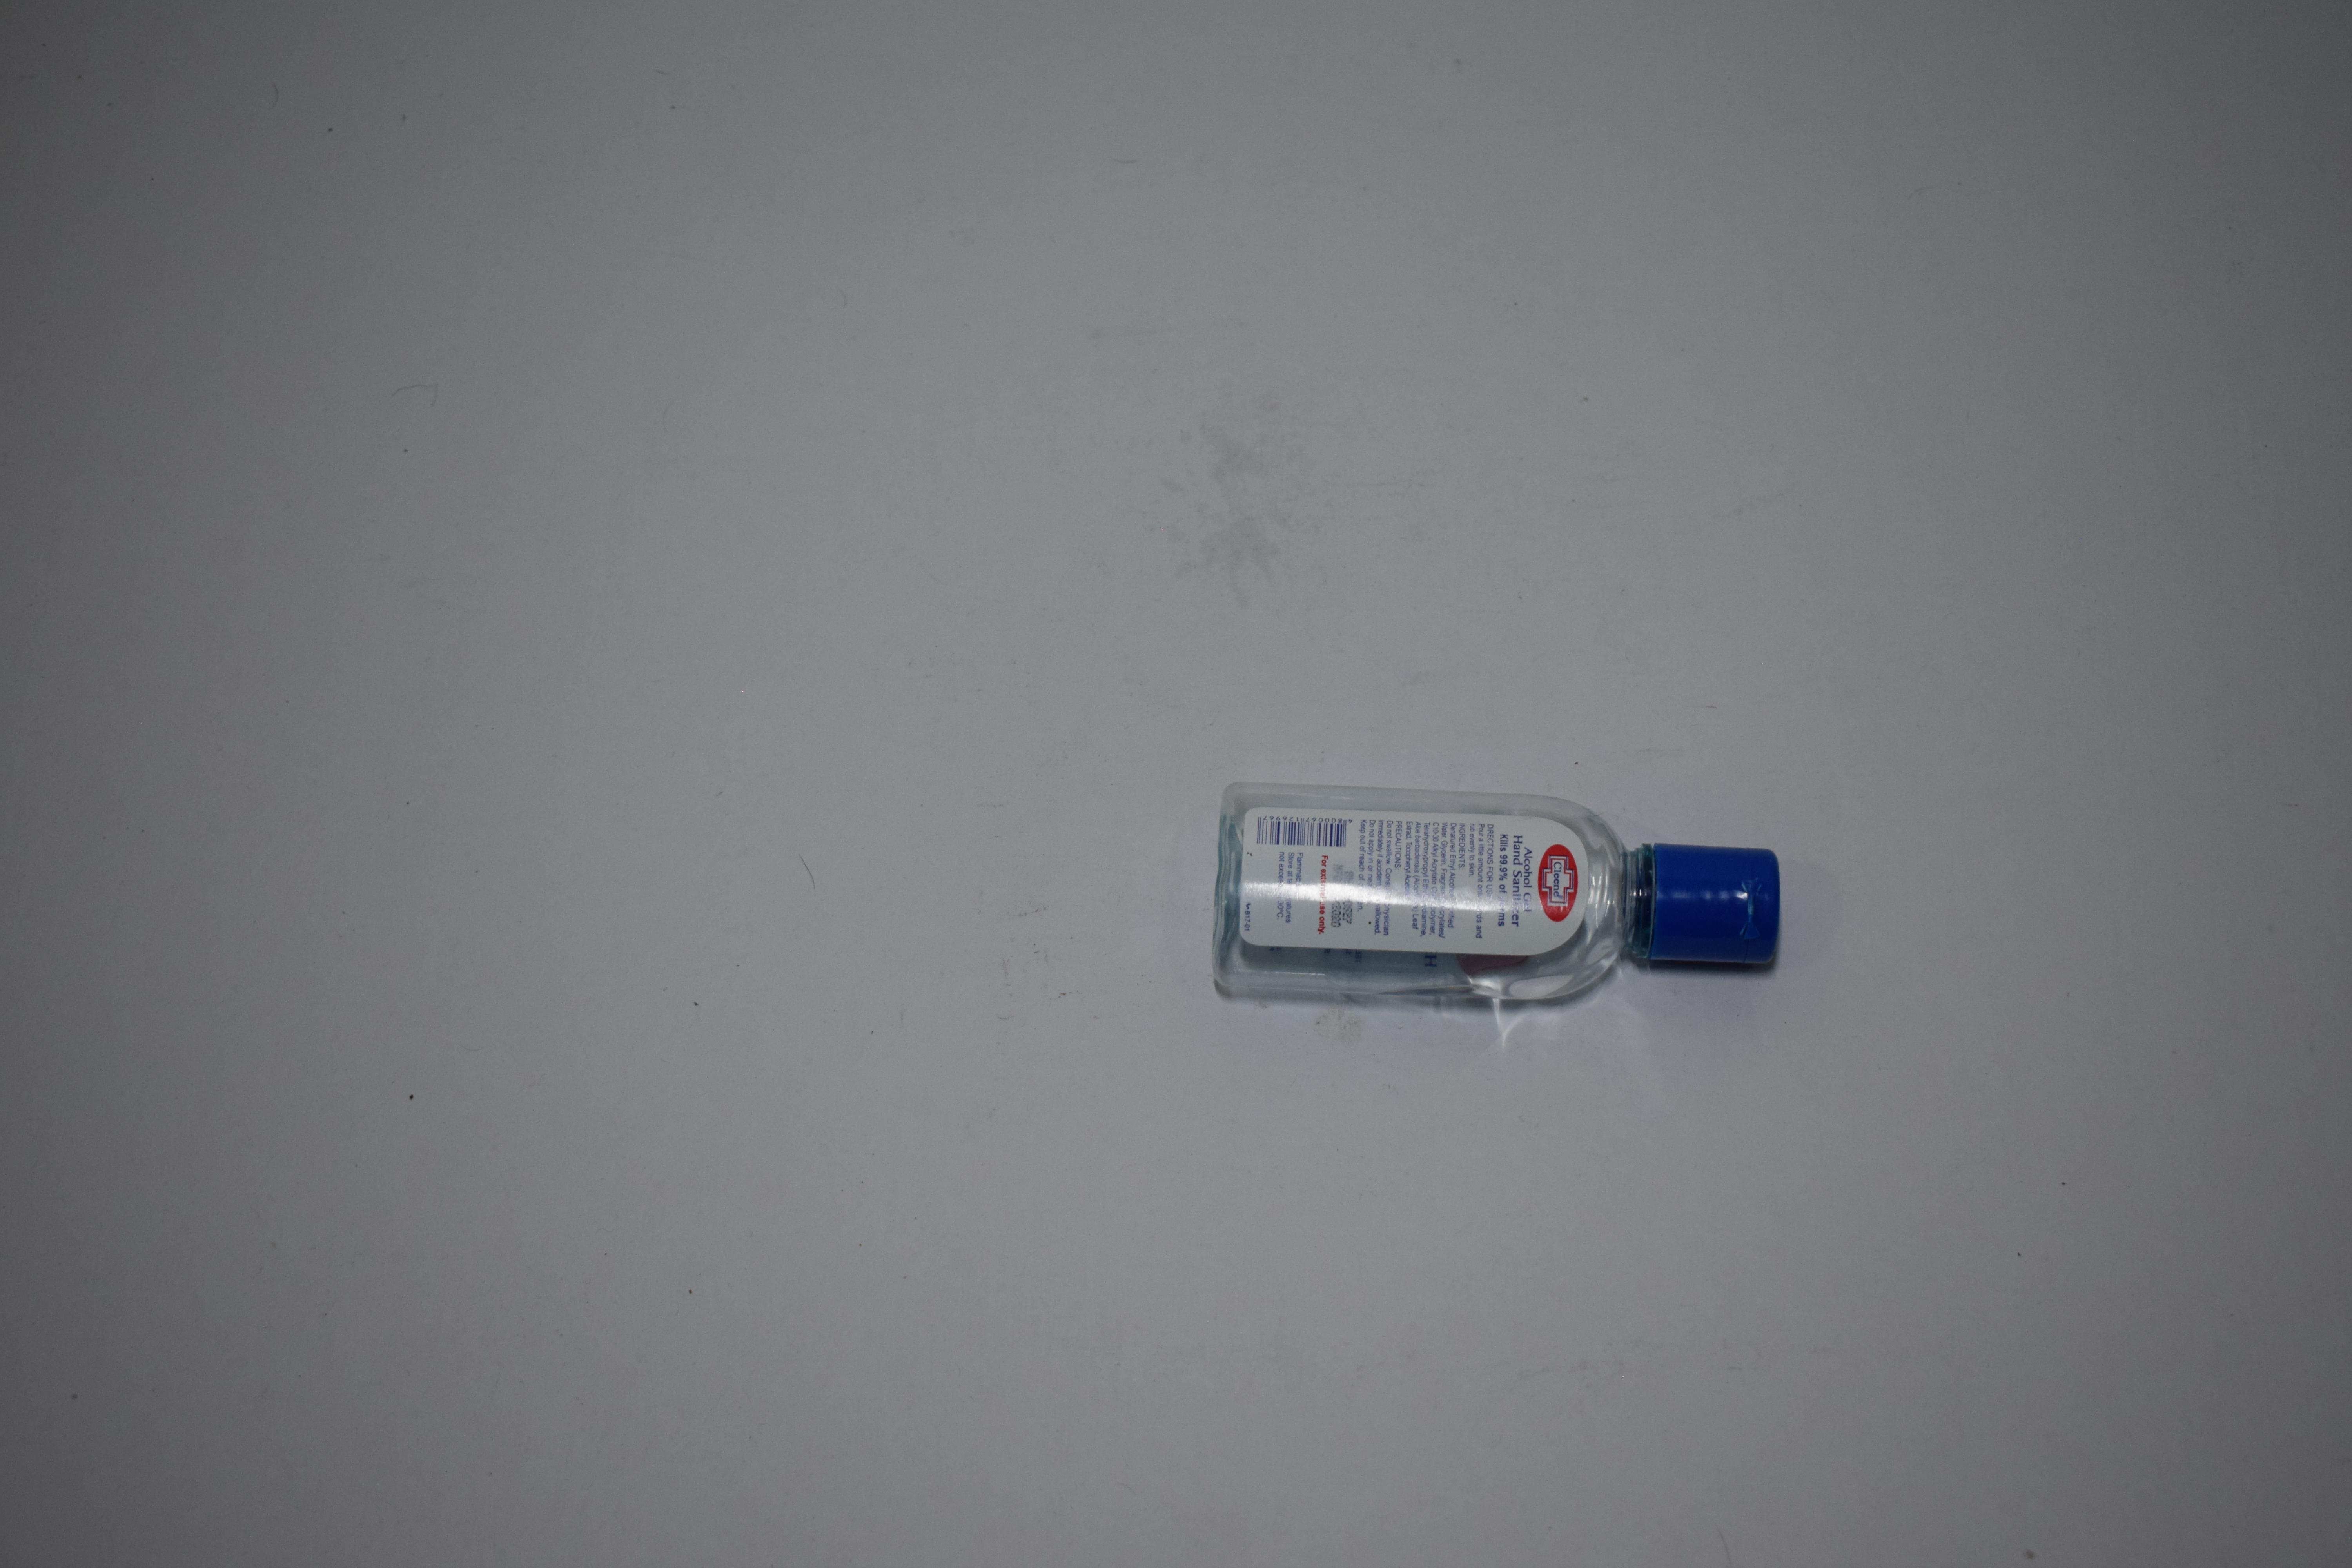bottle: (1246, 35, 1720, 191)
